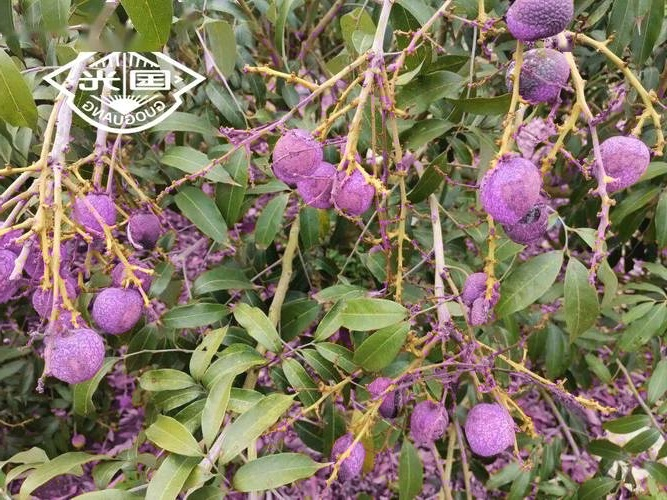Anthracnose: (499, 40, 559, 112), (9, 228, 74, 294), (365, 375, 432, 437), (39, 335, 111, 389), (105, 200, 165, 263), (292, 171, 362, 216), (256, 133, 316, 183), (505, 174, 549, 242), (462, 274, 502, 315), (113, 288, 144, 327)
